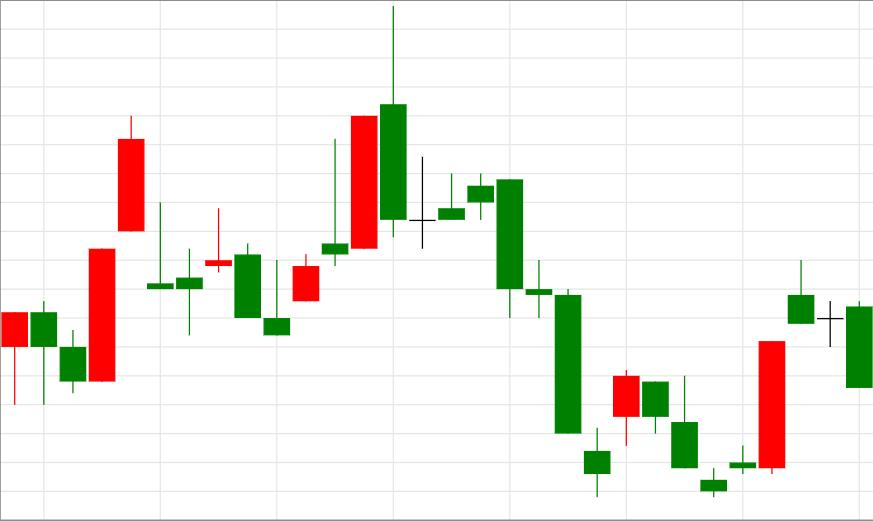morning_star_rise: (381, 6, 639, 497)
